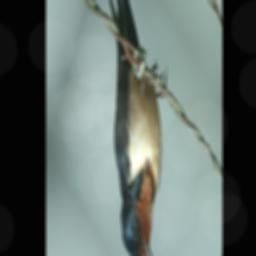Swallow: (52, 0, 198, 256)
